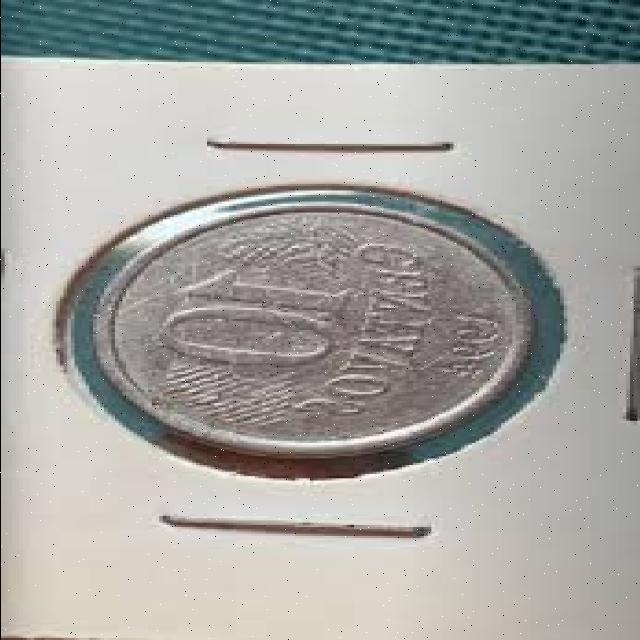10 cent: (97, 199, 525, 459)
